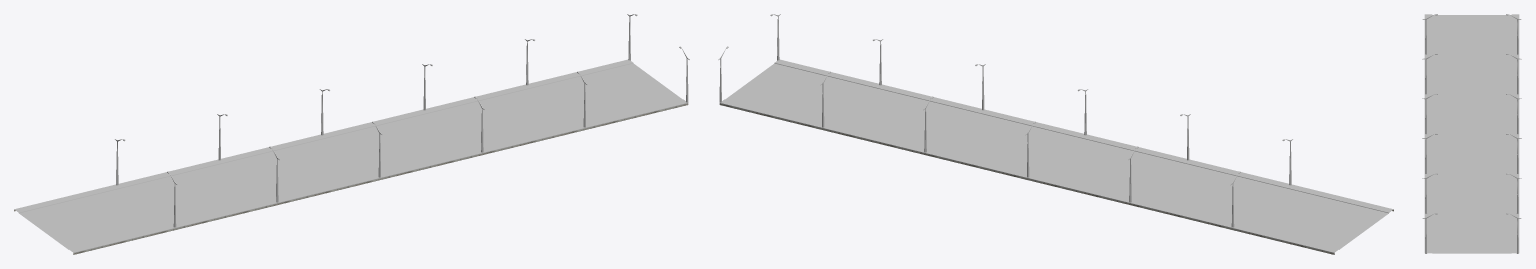
File: Big_Road_0.FBX
The picture shows the model from 3 angles, left to right: view 1: azimuth 30°, elevation 25°; view 2: azimuth 150°, elevation 25°; view 3: azimuth 270°, elevation 25°; orthographic projection. The views are drawn at different scales.
Parts seen in each view (by area): view 1: Big_Road_0; view 2: Big_Road_0; view 3: Big_Road_0, City011, City006, City004, City012, City005, City016, City015, City3, City013, City014, City009 (+1 smaller).
Part boxes in pixels (box(x1,y1,x2,y2)): Big_Road_0: box(14, 59, 688, 254); Big_Road_0: box(719, 59, 1393, 254); Big_Road_0: box(1424, 14, 1519, 253); City011: box(1506, 93, 1521, 134); City006: box(1506, 173, 1521, 213); City004: box(1422, 213, 1437, 253); City012: box(1422, 93, 1437, 134); City005: box(1422, 173, 1437, 213); City016: box(1422, 14, 1437, 54); City015: box(1506, 14, 1521, 54); City3: box(1506, 213, 1521, 253); City013: box(1506, 53, 1521, 94); City014: box(1422, 53, 1437, 94); City009: box(1506, 133, 1521, 173).
Size of the model in its own units: 13565 by 1104 by 2394.
